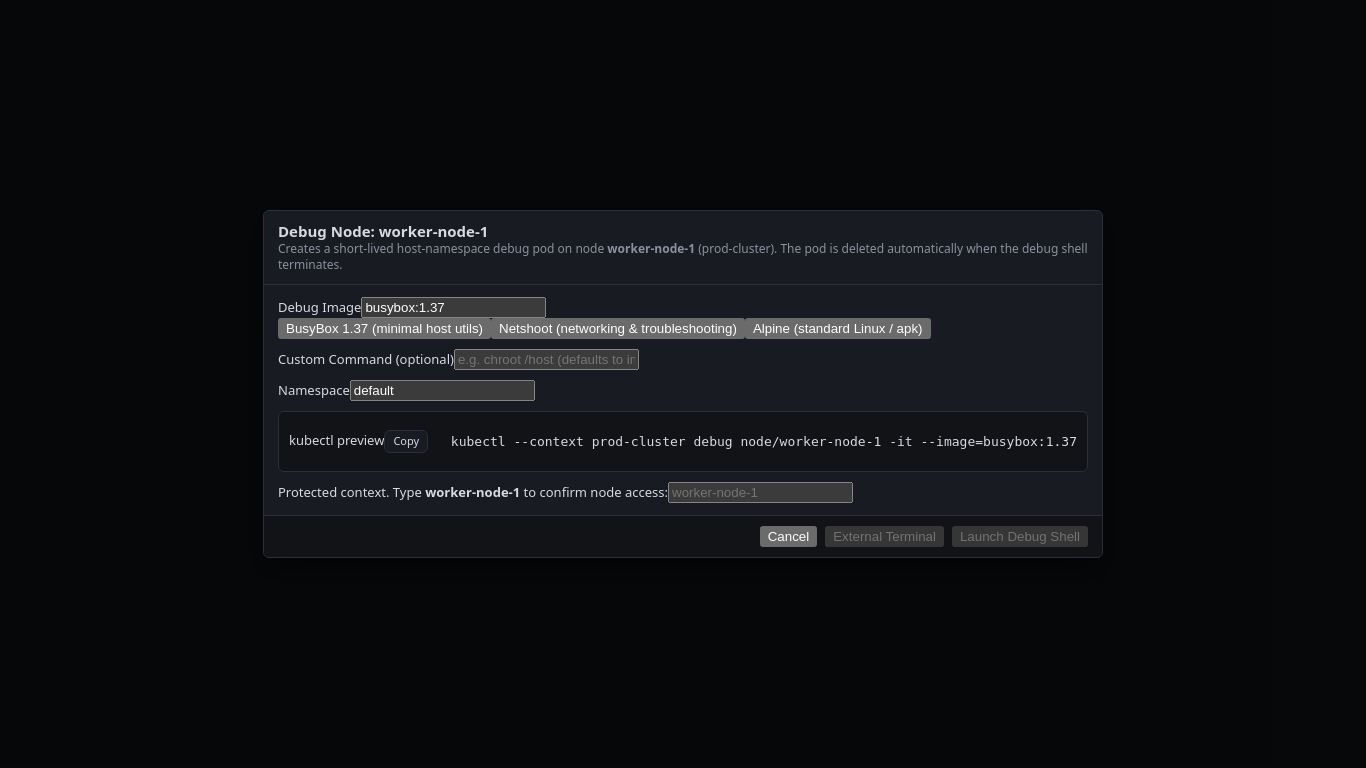
Test: <NodeDebugModal /> (04-03d) › enforces protected context: requires typing node name before launch is enabled
Expected: the button with test id "node-debug-launch-btn" is disabled, [952,526,1088,547]
Type "wrong-node" into the field with test id "node-debug-confirm-input" at (760, 493), box [668,482,853,503]
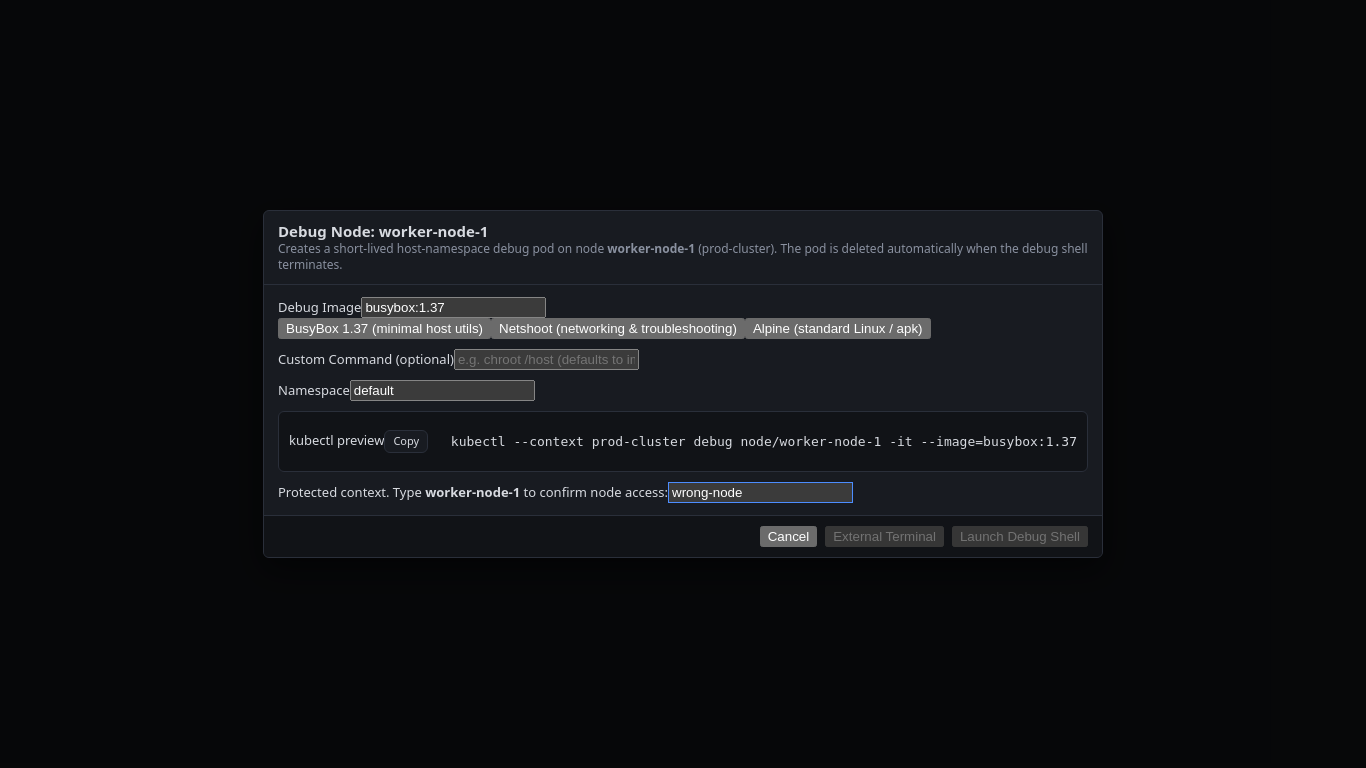
Expected: the button with test id "node-debug-launch-btn" is disabled, [952,526,1088,547]
Replace the text in the field with test id "node-debug-confirm-input" with "worker-node-1" at (760, 493), box [668,482,853,503]
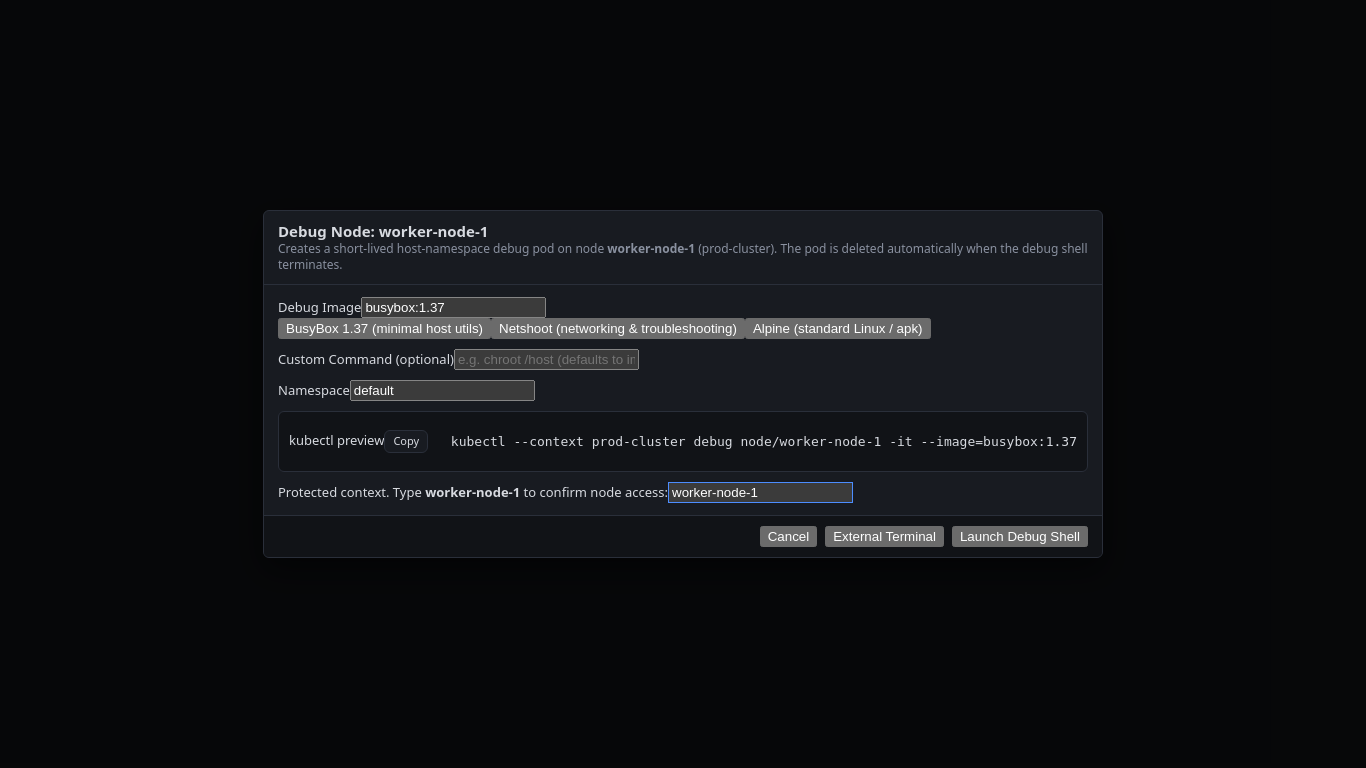
Expected: the button with test id "node-debug-launch-btn" is enabled, [952,526,1088,547]
